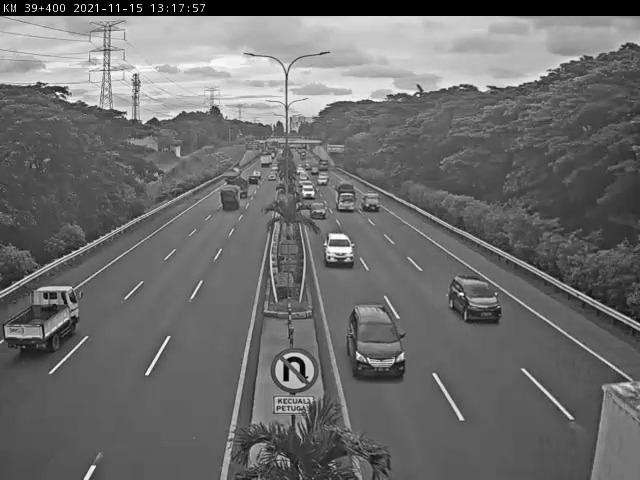car: (346, 303, 409, 379), (447, 274, 502, 325), (323, 232, 355, 267), (362, 191, 382, 212), (308, 202, 327, 220)
truck-m-: (333, 178, 357, 214), (220, 183, 241, 210)
truck-s-: (3, 287, 80, 350)
